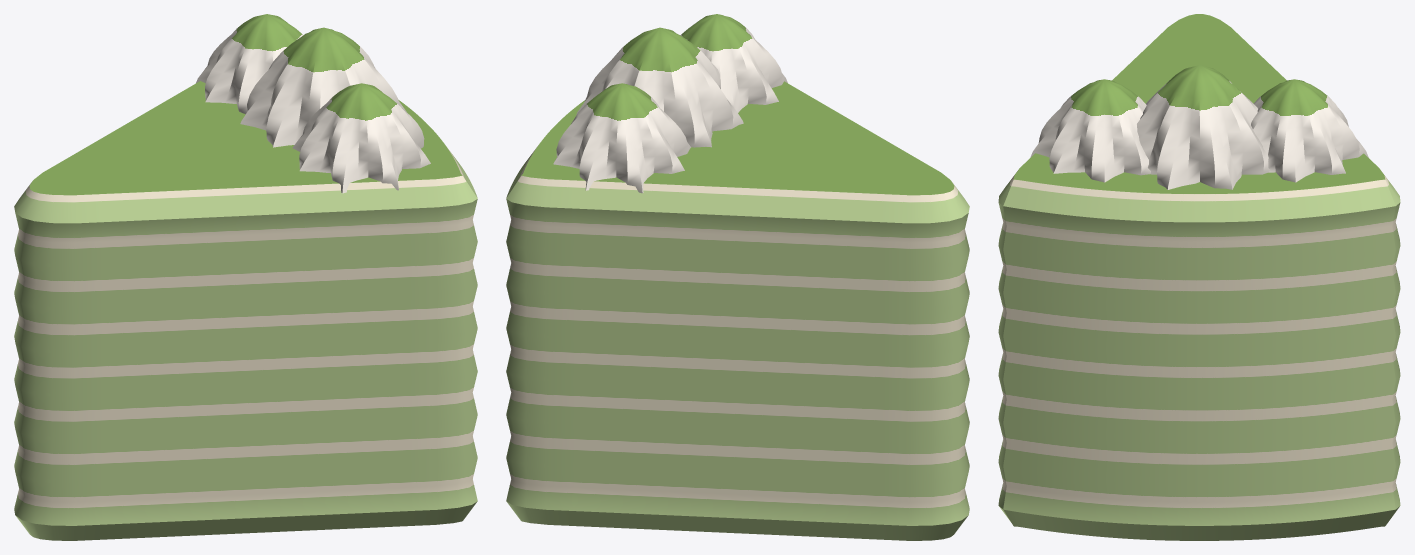
Rendered from MatchaCrepeCake.glb.
3 views of the same model, side by side, from view 1: azimuth 30°, elevation 25°; view 2: azimuth 150°, elevation 25°; view 3: azimuth 270°, elevation 25° (orthographic).
Visible parts, largest first — view 1: MatchaCrepeCake; view 2: MatchaCrepeCake; view 3: MatchaCrepeCake.
Boxes of the visible parts, x1,y1,x2,y2 form: MatchaCrepeCake: [14, 14, 477, 540]; MatchaCrepeCake: [506, 14, 969, 540]; MatchaCrepeCake: [998, 14, 1400, 540].
Size of the model in its own units: 0.8791 by 0.931 by 0.7732.
Materials: 3 (3 with a texture image).
